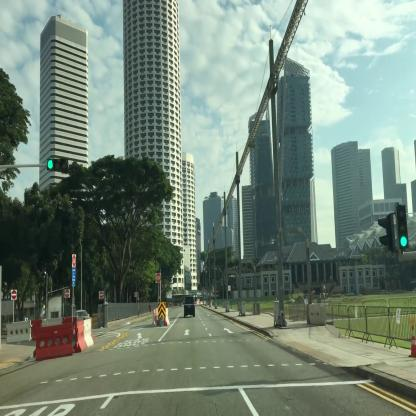green_traffic_light: (396, 203, 409, 247), (46, 156, 67, 171)
